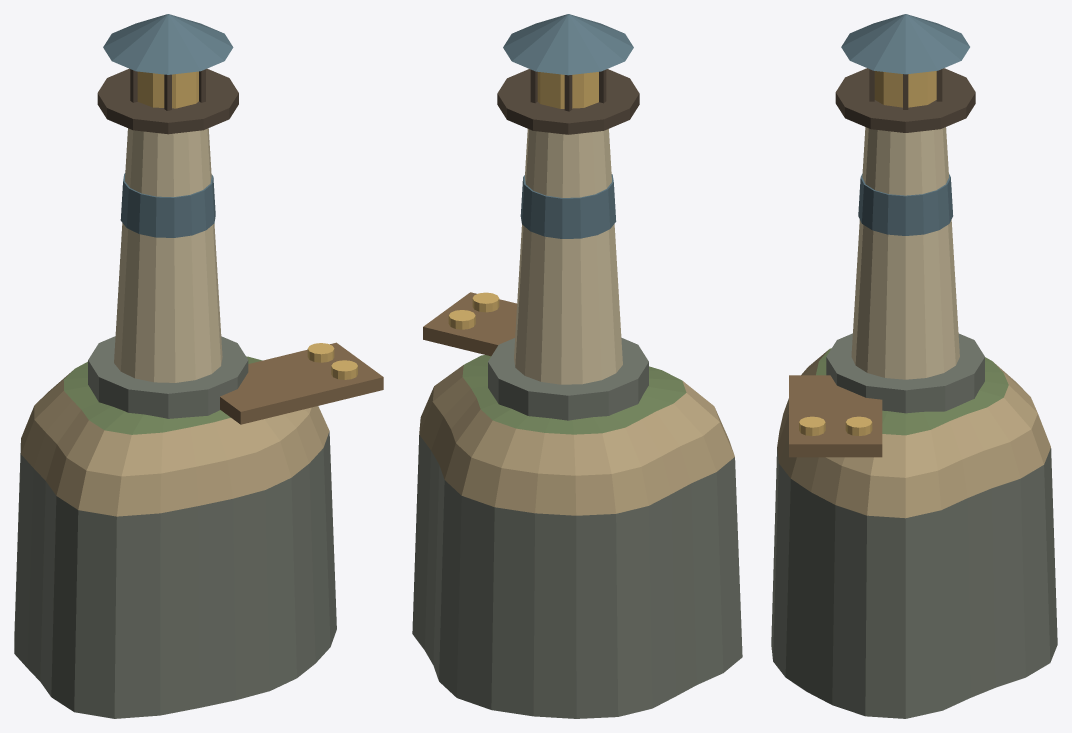
File: layout_lighthouse.glb
3 views of the same model, side by side, from view 1: azimuth 30°, elevation 25°; view 2: azimuth 150°, elevation 25°; view 3: azimuth 270°, elevation 25° (orthographic).
Parts seen in each view (by area): view 1: lighthouse_HarborLayout_sand, lighthouse_HarborLayout_cream, lighthouse_HarborLayout_blue, lighthouse_HarborLayout_wood, lighthouse_HarborLayout_rock, lighthouse_HarborLayout_beam, lighthouse_HarborLayout_gold; view 2: lighthouse_HarborLayout_sand, lighthouse_HarborLayout_cream, lighthouse_HarborLayout_blue, lighthouse_HarborLayout_rock, lighthouse_HarborLayout_beam, lighthouse_HarborLayout_wood, lighthouse_HarborLayout_gold; view 3: lighthouse_HarborLayout_sand, lighthouse_HarborLayout_cream, lighthouse_HarborLayout_blue, lighthouse_HarborLayout_rock, lighthouse_HarborLayout_wood, lighthouse_HarborLayout_beam, lighthouse_HarborLayout_gold.
Part boxes in pixels (x1,y1,x2,y2): lighthouse_HarborLayout_sand: (14, 356, 336, 718); lighthouse_HarborLayout_cream: (114, 128, 222, 382); lighthouse_HarborLayout_blue: (103, 14, 233, 237); lighthouse_HarborLayout_wood: (220, 342, 383, 424); lighthouse_HarborLayout_rock: (88, 336, 248, 418); lighthouse_HarborLayout_beam: (97, 68, 238, 134); lighthouse_HarborLayout_gold: (137, 71, 357, 379); lighthouse_HarborLayout_sand: (412, 355, 742, 718); lighthouse_HarborLayout_cream: (514, 129, 622, 384); lighthouse_HarborLayout_blue: (503, 14, 633, 238); lighthouse_HarborLayout_rock: (488, 337, 648, 420); lighthouse_HarborLayout_beam: (497, 69, 639, 134); lighthouse_HarborLayout_wood: (423, 292, 517, 356); lighthouse_HarborLayout_gold: (448, 72, 598, 329); lighthouse_HarborLayout_sand: (771, 348, 1057, 718); lighthouse_HarborLayout_cream: (851, 127, 959, 379); lighthouse_HarborLayout_blue: (841, 14, 969, 235); lighthouse_HarborLayout_rock: (826, 333, 984, 413); lighthouse_HarborLayout_wood: (789, 375, 882, 457); lighthouse_HarborLayout_beam: (835, 68, 975, 132); lighthouse_HarborLayout_gold: (799, 71, 936, 436).
Bounding box in the file's own units: 4.29 × 8.93 × 3.68.
